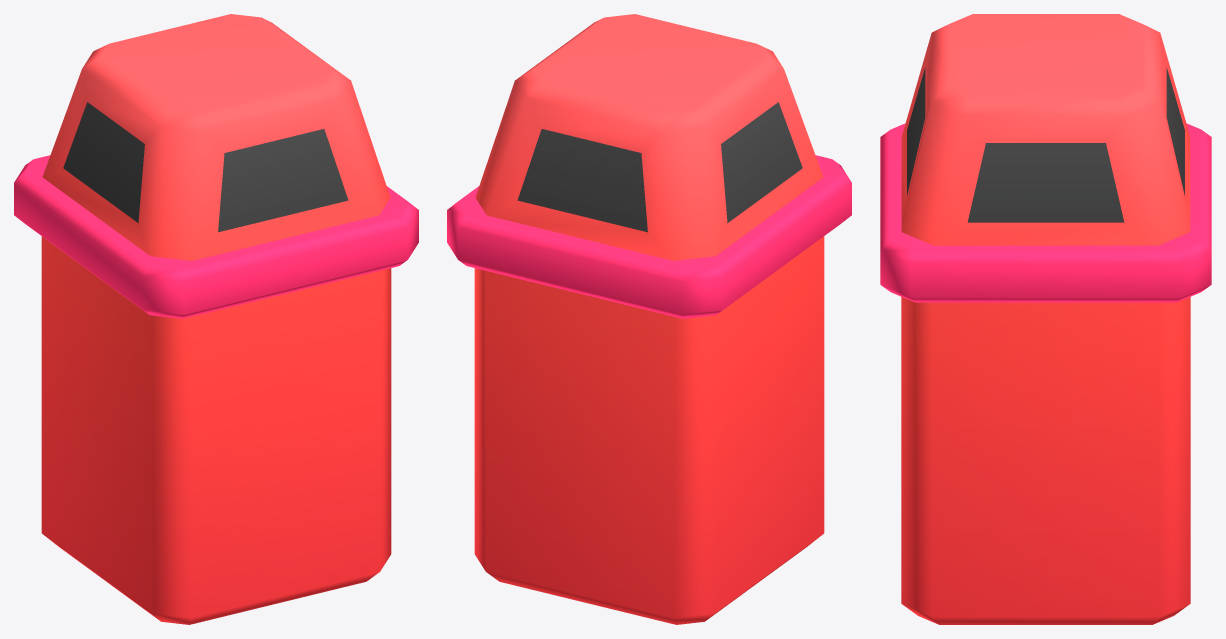
Rendered from Trash_Can_04.glb.
The picture shows the model from 3 angles, left to right: view 1: azimuth 30°, elevation 25°; view 2: azimuth 150°, elevation 25°; view 3: azimuth 270°, elevation 25°; orthographic projection. The views are drawn at different scales.
Visible parts, largest first — view 1: Trash_Can_04; view 2: Trash_Can_04; view 3: Trash_Can_04.
Boxes of the visible parts, x1=… form: Trash_Can_04: x1=14, y1=14, x2=418, y2=624; Trash_Can_04: x1=447, y1=14, x2=851, y2=624; Trash_Can_04: x1=880, y1=14, x2=1211, y2=624.
Bounding box in the file's own units: 0.5099 × 0.8757 × 0.5099.
Materials: 1 (1 with a texture image).
